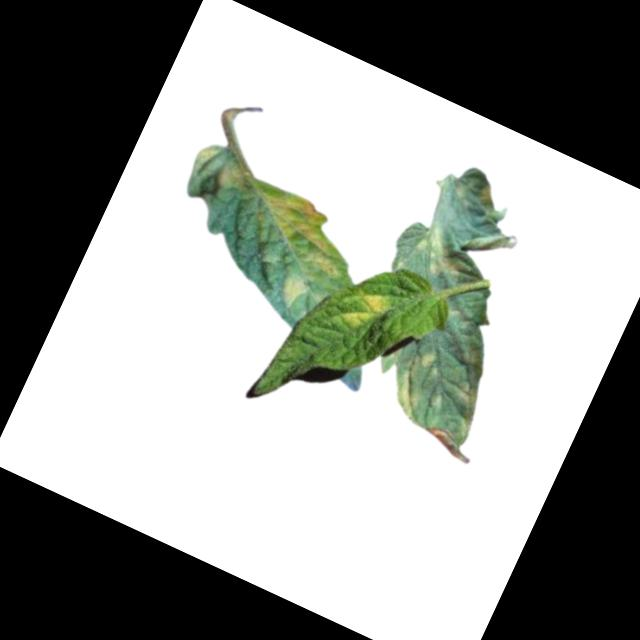Leaf_Mold: (239, 181, 365, 287), (407, 224, 470, 283), (383, 360, 434, 422), (338, 283, 393, 340), (212, 157, 256, 201), (274, 273, 313, 317), (454, 380, 488, 410), (191, 141, 219, 171), (420, 351, 440, 372)
